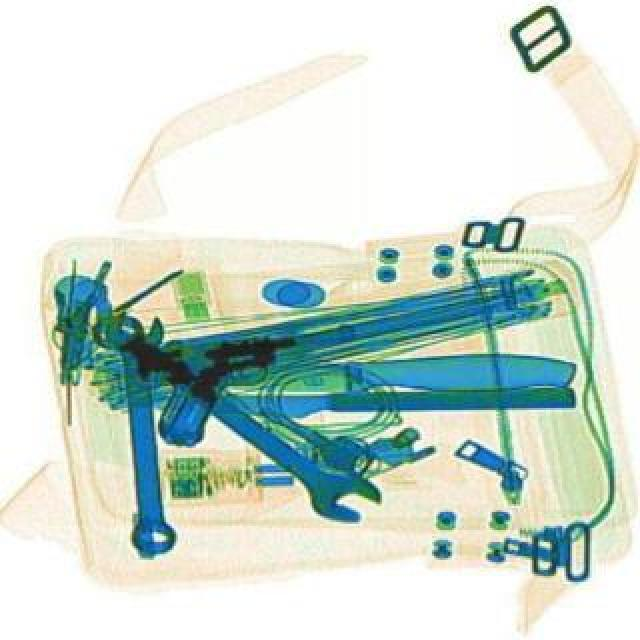gun: (140, 318, 364, 454)
knife: (186, 354, 570, 402), (152, 390, 570, 422)
scissors: (72, 296, 386, 540), (100, 314, 182, 560)
